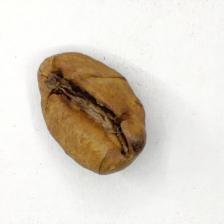NG: (44, 65, 144, 156)
